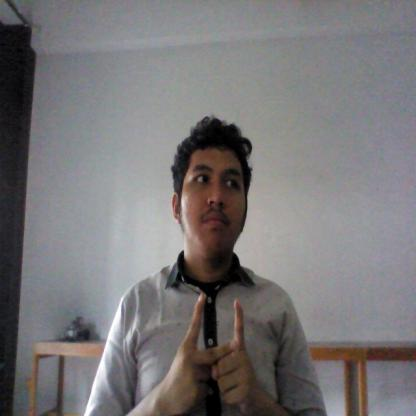H: (170, 289, 258, 416)
